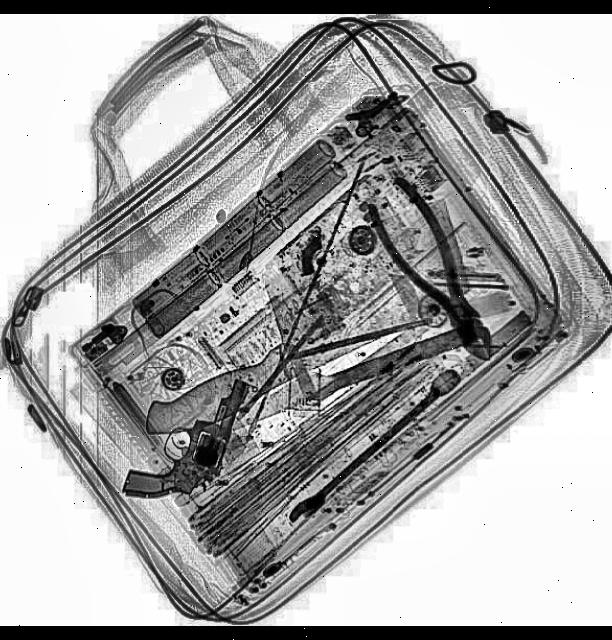Gun: (121, 356, 250, 522)
Knife: (108, 192, 486, 450), (192, 316, 481, 448)
Pliers: (358, 173, 518, 377)
